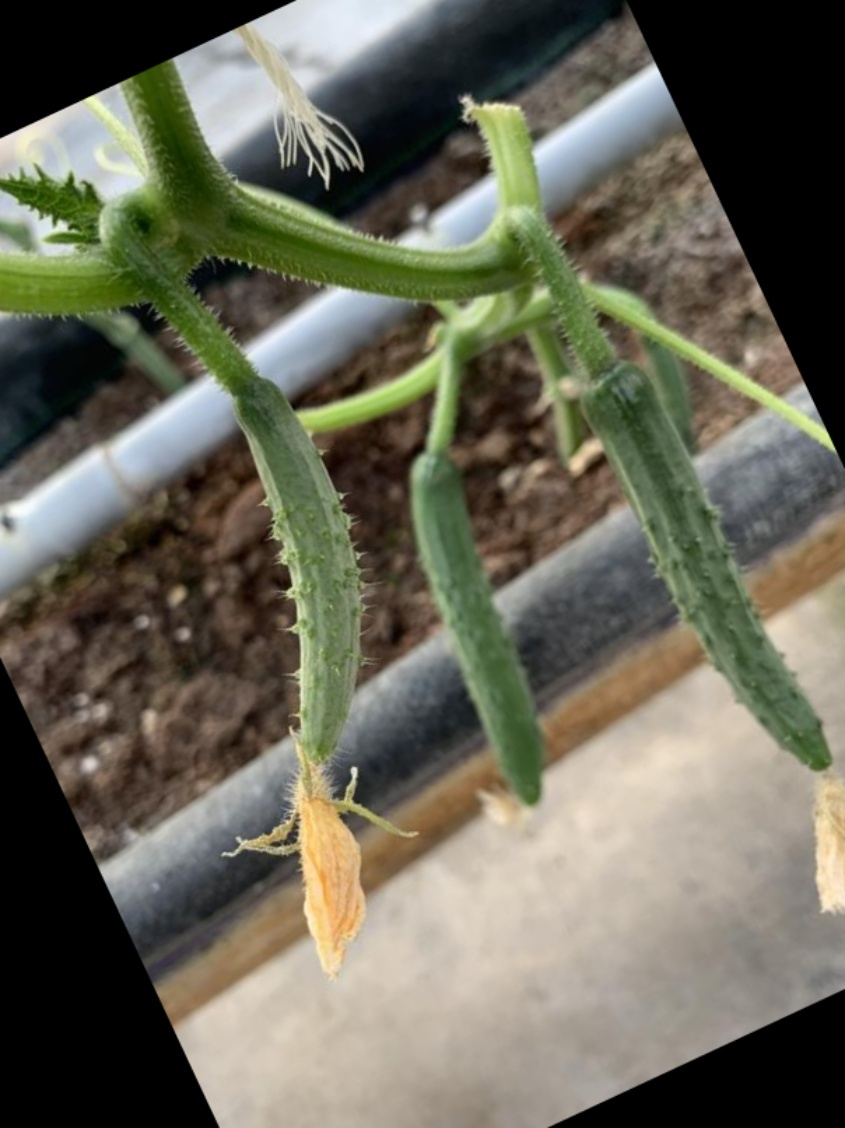bear: (207, 400, 423, 984)
